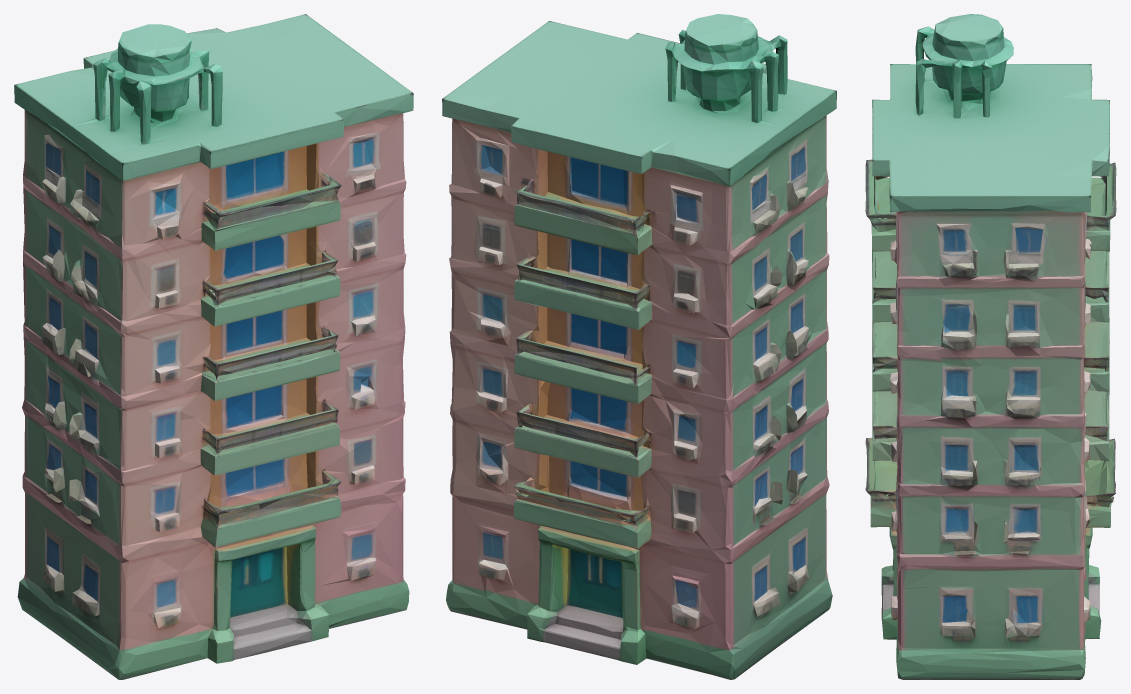
The model's file is apartment_balcony.glb.
3 renders of one model, left to right at view 1: azimuth 30°, elevation 25°; view 2: azimuth 150°, elevation 25°; view 3: azimuth 270°, elevation 25°, orthographic. The views are drawn at different scales.
Parts seen in each view (by area): view 1: geometry_0; view 2: geometry_0; view 3: geometry_0.
Part boxes in pixels (x1,y1,x2,y2): geometry_0: (14,14,413,679); geometry_0: (442,14,836,679); geometry_0: (865,14,1116,679).
Bounding box in the file's own units: 0.5359 × 0.9999 × 0.4099.
Materials: 1 (1 with a texture image).
